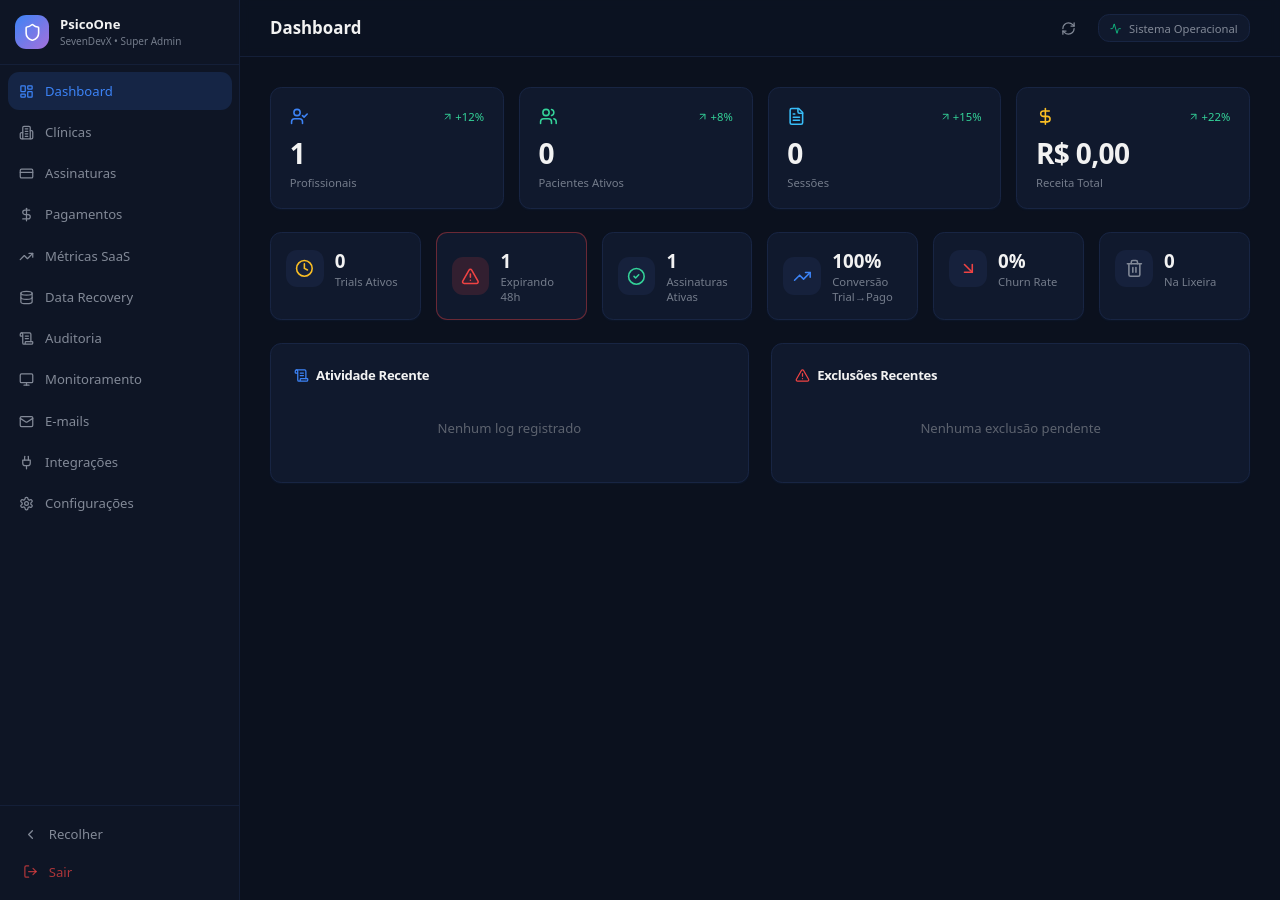
keeps subscriptions available when email lookup fails
Click the button "Assinaturas": (120, 174) 8,155 -> 232,192
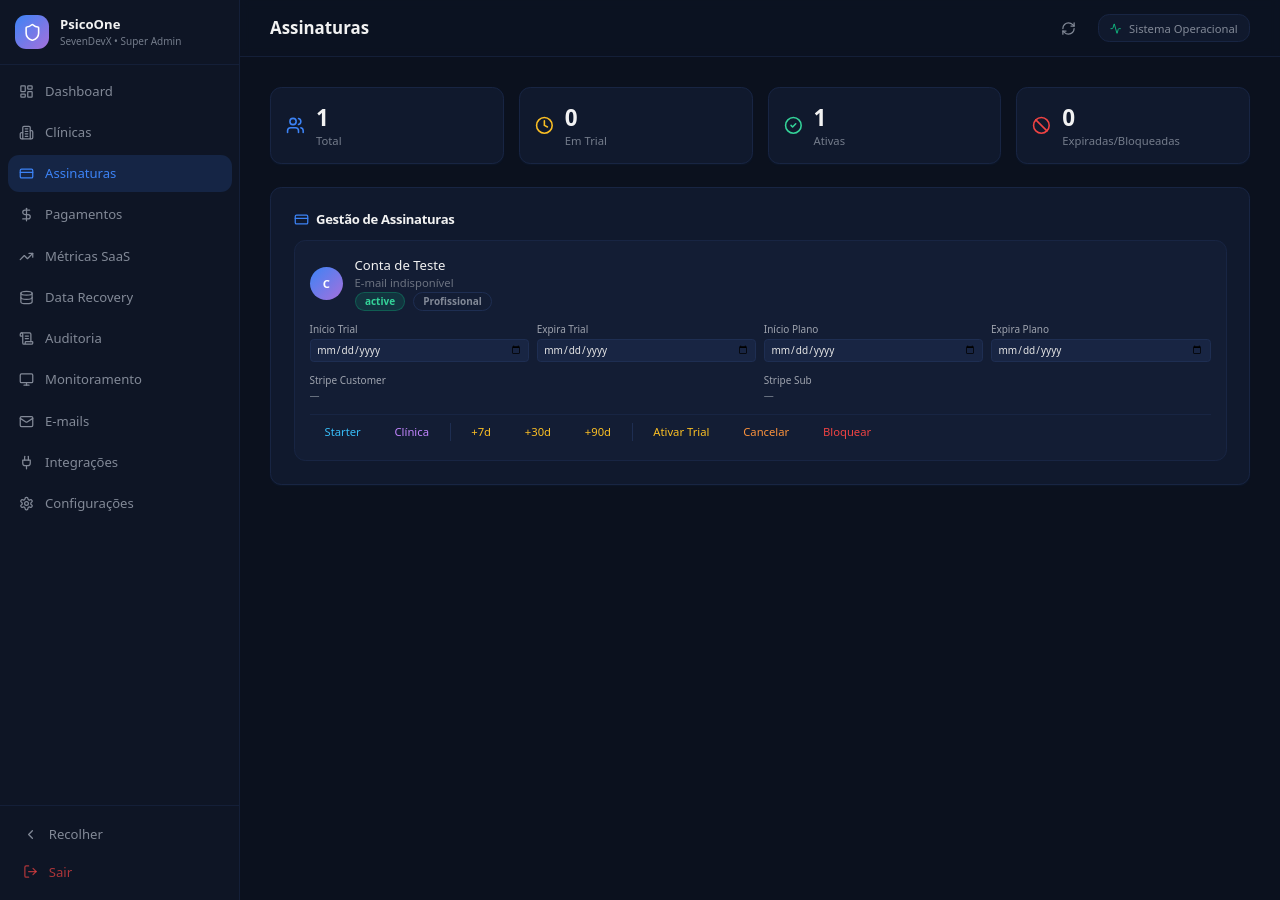
Expected: the text "E-mail indisponível" is shown, 354,275 -> 454,290
Expected: the text "Conta de Teste" is shown, 354,256 -> 445,274
